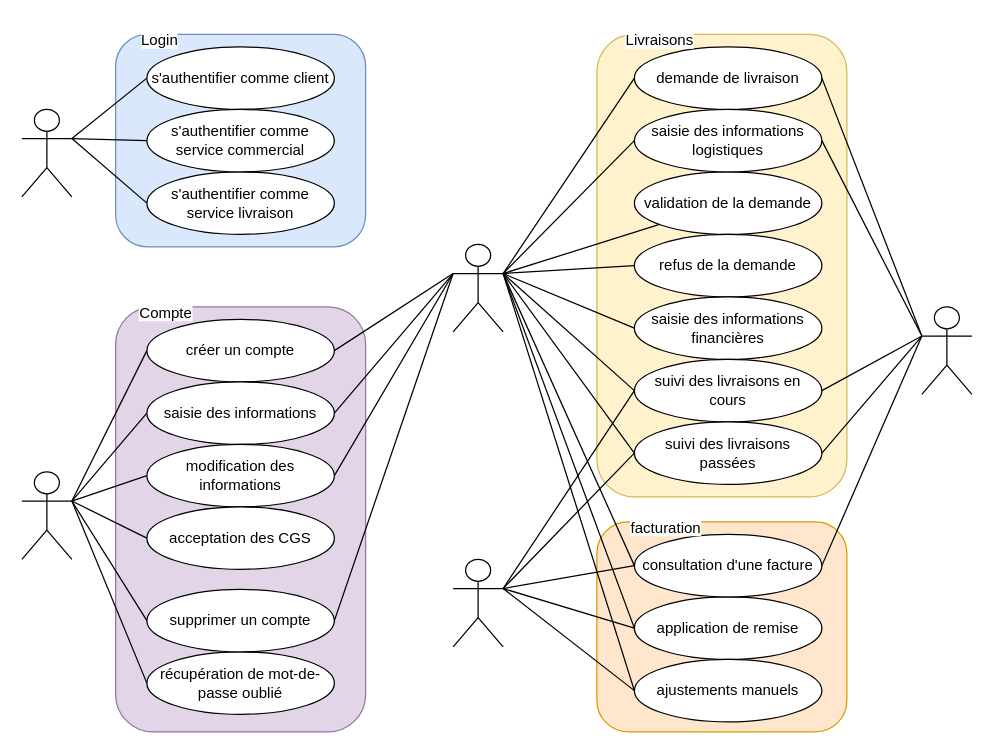
The diagram is 994 pixels wide and 754 high, and some of its shapes have lost their labels. The shapes that lost their labels are listed below. From the top down, each one's box as (x1, y1, x2, y2) in pixels, then its label:
(21, 108, 72, 197): Visiteur
(452, 243, 503, 332): Commercial
(921, 306, 972, 394): Client
(21, 471, 72, 559): C lient
(452, 558, 503, 647): L ivraison
